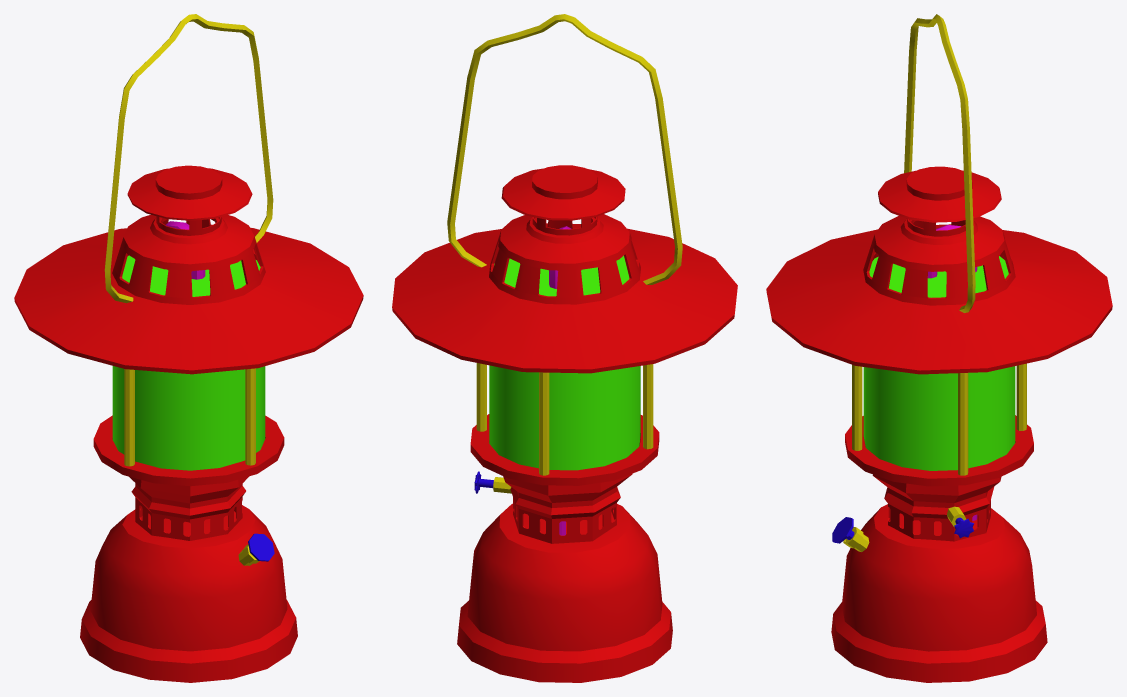
Rendered from Petromak1.fbx.
3 renders of one model, left to right at view 1: azimuth 30°, elevation 25°; view 2: azimuth 150°, elevation 25°; view 3: azimuth 270°, elevation 25°, orthographic.
Visible parts, largest first — view 1: Petromak_low; view 2: Petromak_low; view 3: Petromak_low.
Part boxes in pixels (x1,y1,x2,y2): Petromak_low: (14, 14, 363, 682); Petromak_low: (392, 14, 737, 682); Petromak_low: (766, 14, 1112, 682).
Size of the model in its own units: 1.47 by 2.91 by 1.47.
